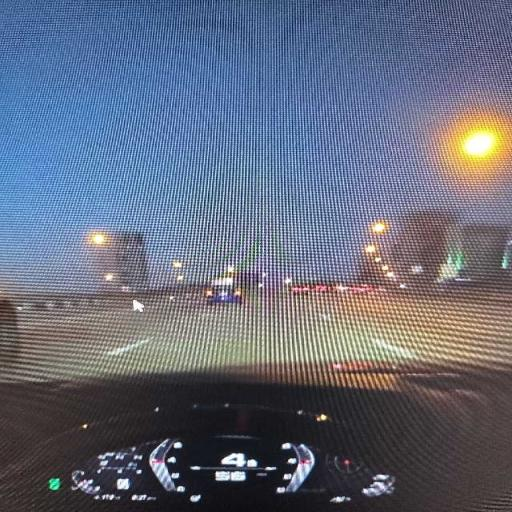car: (0, 292, 19, 364), (205, 287, 241, 303)
lane: (11, 295, 511, 379)
